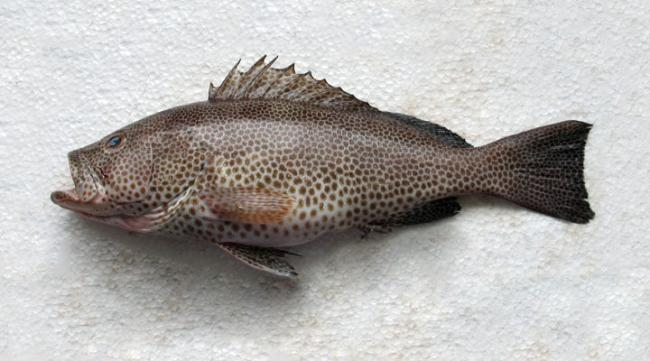fish: (51, 54, 596, 282)
